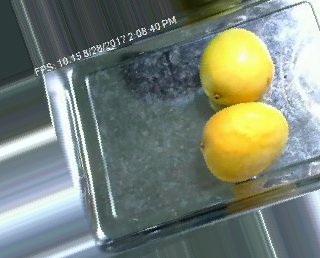Mango: (195, 101, 288, 179), (195, 28, 275, 101)
